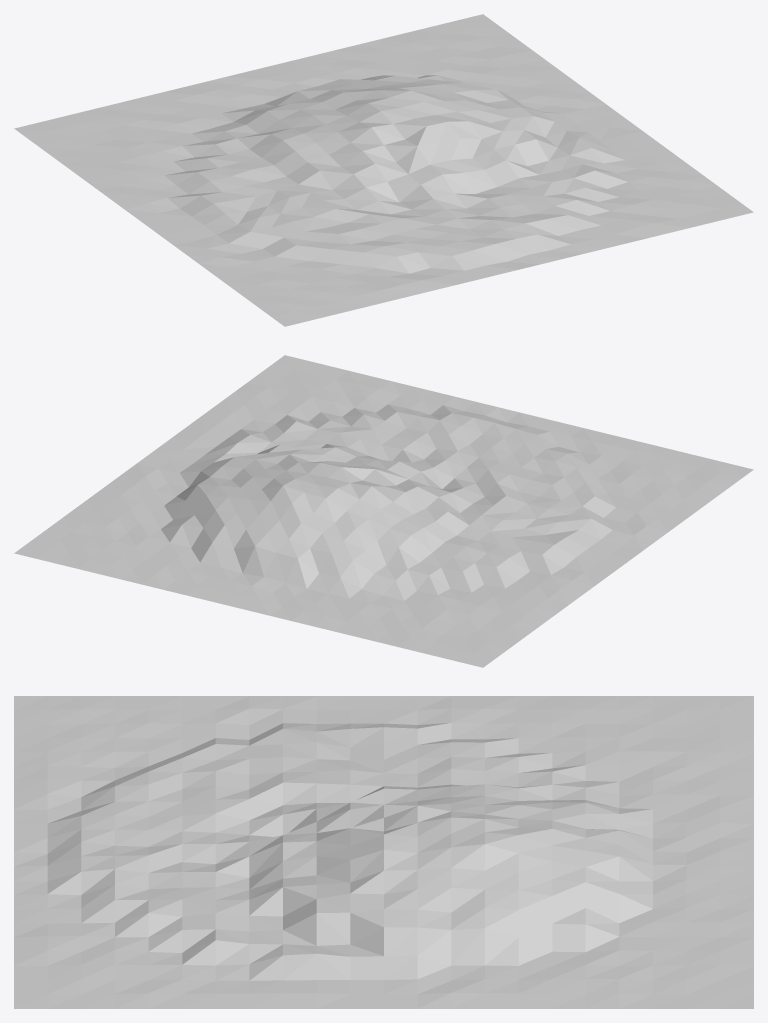
The model's file is washitsu_Ground_01.fbx.
3 views of the same model, one above another, from view 1: azimuth 30°, elevation 25°; view 2: azimuth 150°, elevation 25°; view 3: azimuth 270°, elevation 25° (orthographic). The views are drawn at different scales.
Parts seen in each view (by area): view 1: washitsu_Ground_01; view 2: washitsu_Ground_01; view 3: washitsu_Ground_01.
Part boxes in pixels (bbox=[...]): washitsu_Ground_01: bbox=[14, 14, 753, 326]; washitsu_Ground_01: bbox=[14, 355, 753, 667]; washitsu_Ground_01: bbox=[14, 696, 753, 1008].
Size of the model in its own units: 50 by 3.93 by 50.
Materials: 1 (1 with a texture image).
